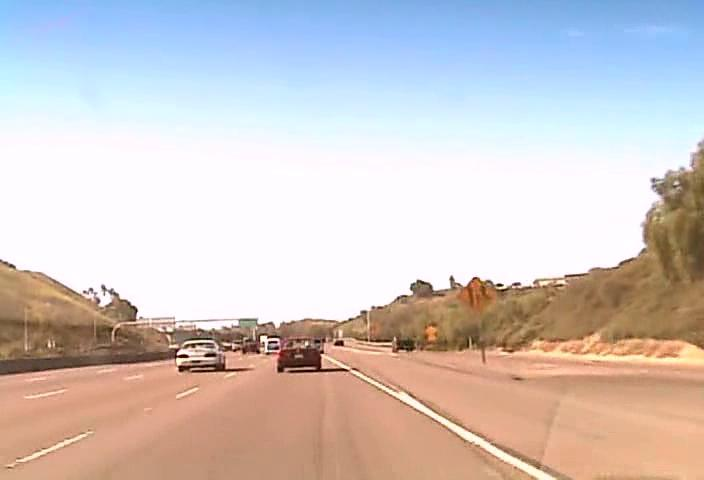addedLane: (455, 276, 494, 313)
